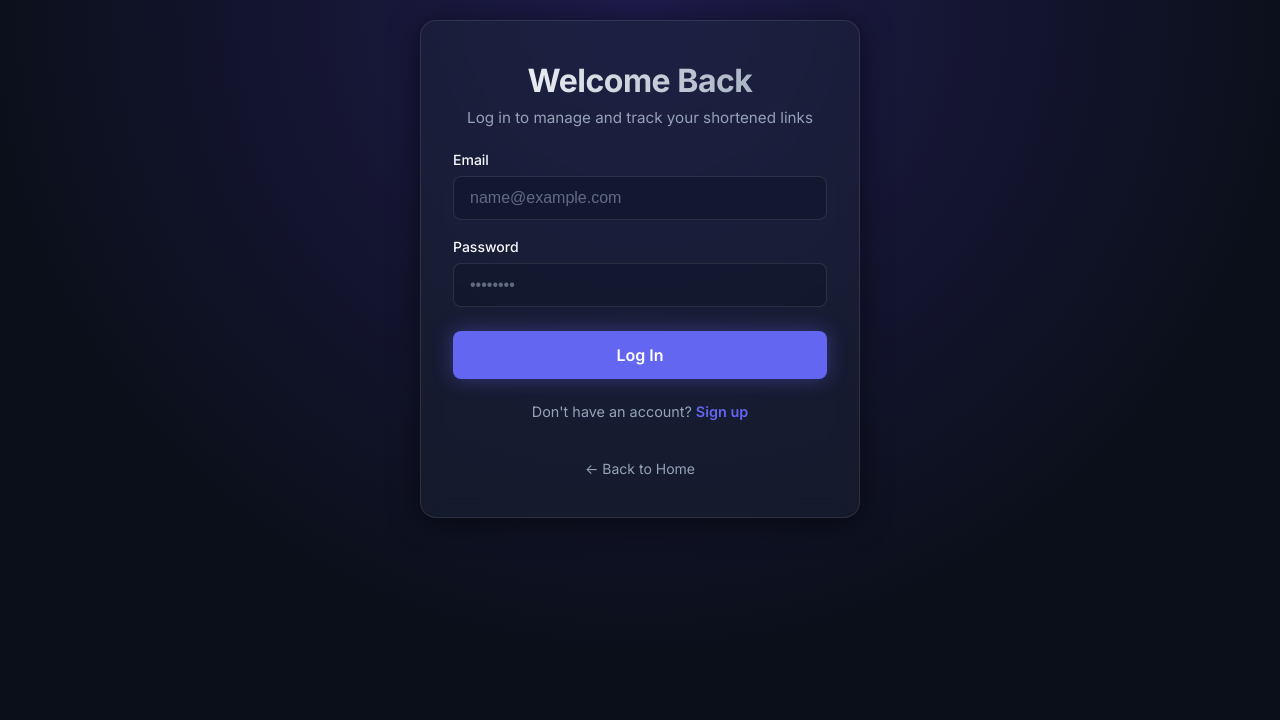
Test: LoginPage Component › validates invalid email format
Step 1. Type "invalid-email" into the field labelled "Email" → (640, 198), box [453,176,827,220]
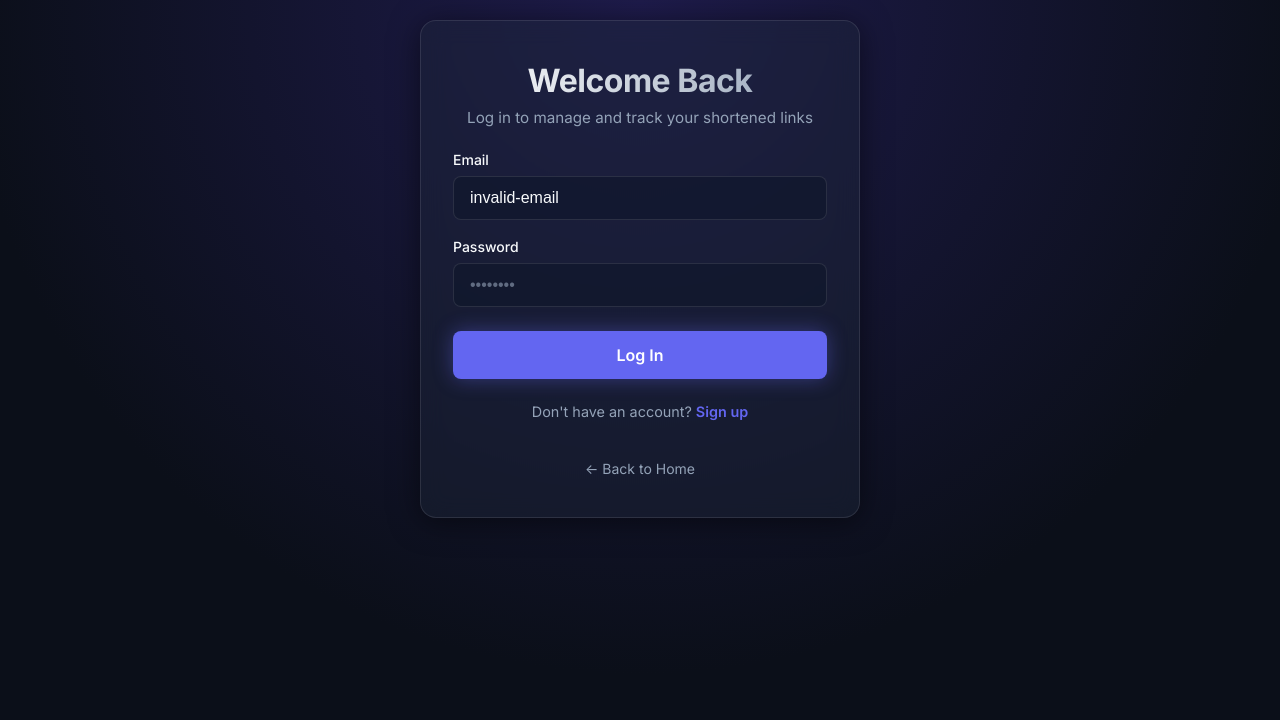
Step 2. Type "password123" into the password field labelled "Password" → (640, 285), box [453,263,827,307]
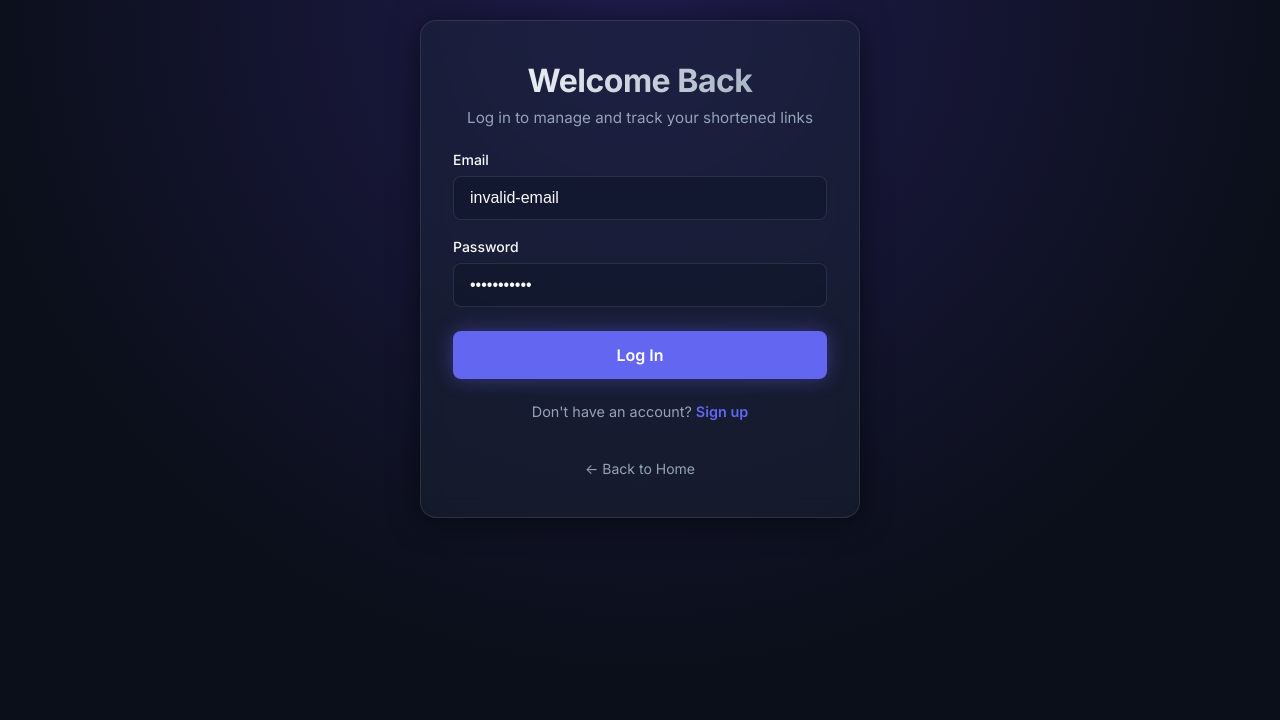
Step 3. Click the button "Log In" → (640, 355), box [453,331,827,379]
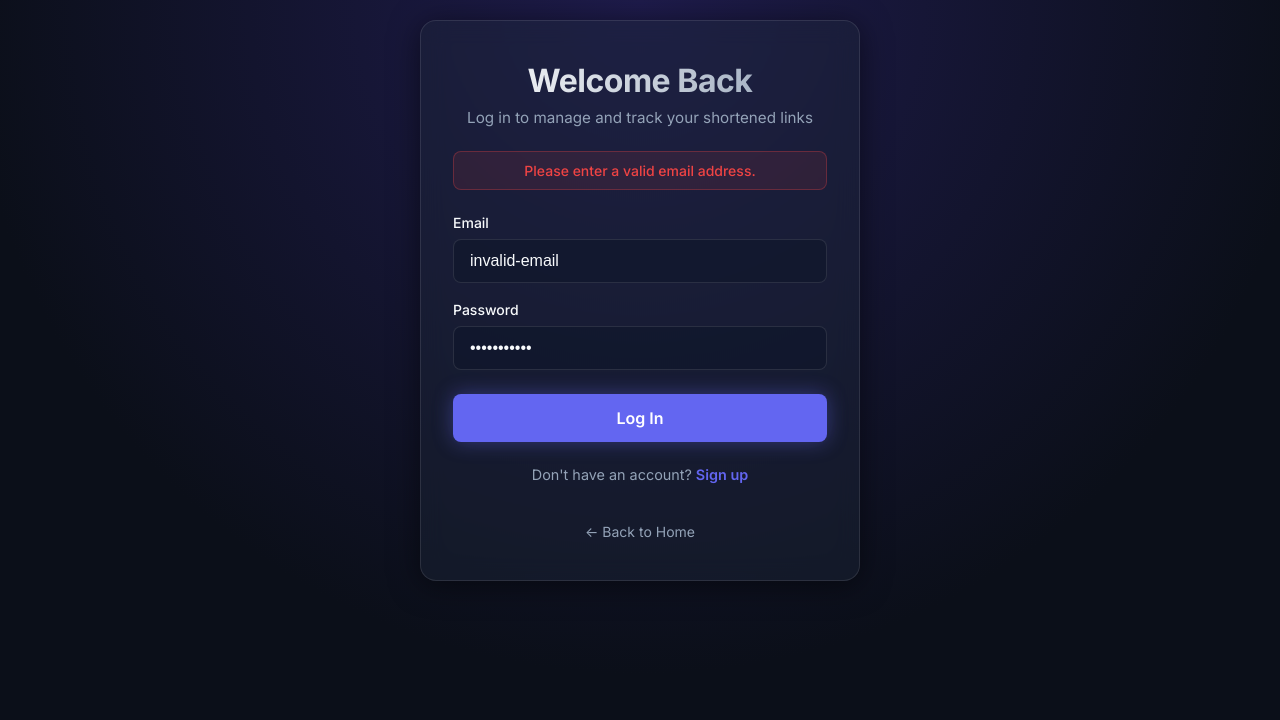
Result: the text "Please enter a valid email address." is shown at [453,151,827,190]
